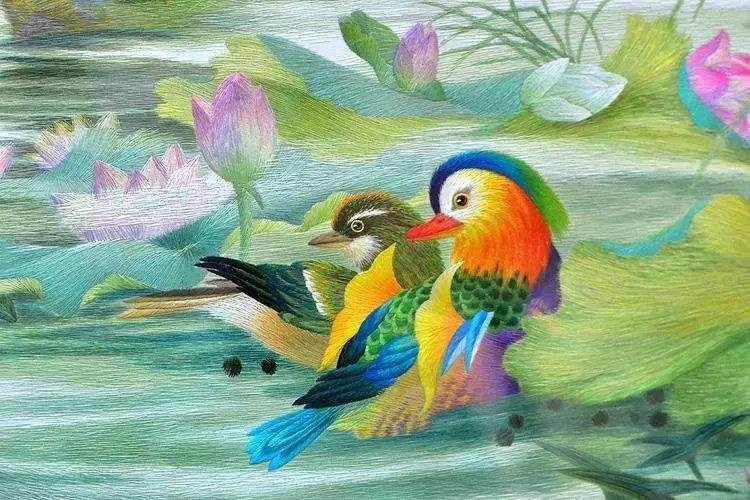lotus: (52, 144, 223, 241), (188, 73, 280, 189), (672, 29, 750, 143), (28, 111, 166, 175), (522, 59, 628, 124), (393, 19, 441, 93)
mandarin duck: (244, 145, 570, 479), (122, 191, 449, 371)
